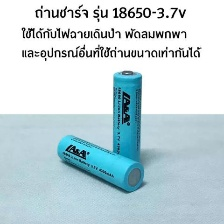battery: (55, 132, 146, 195), (109, 65, 143, 175)
